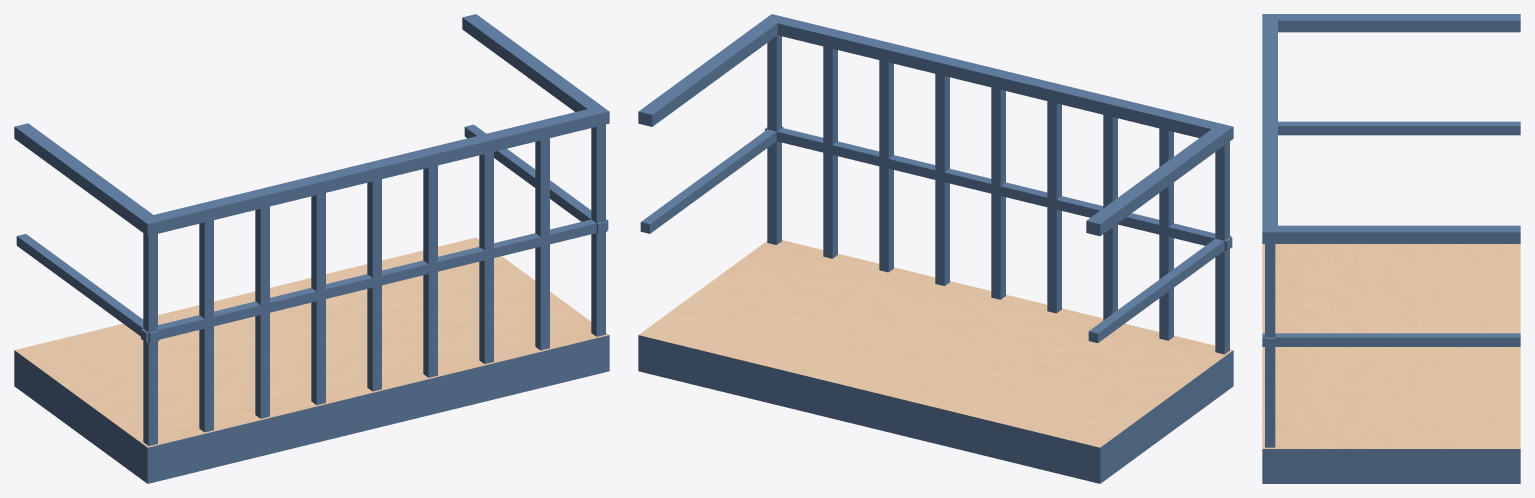
The model's file is Balcony.fbx.
3 renders of one model, left to right at view 1: azimuth 30°, elevation 25°; view 2: azimuth 150°, elevation 25°; view 3: azimuth 270°, elevation 25°, orthographic. The views are drawn at different scales.
Visible parts, largest first — view 1: Balcony; view 2: Balcony; view 3: Balcony.
Boxes of the visible parts, bbox=[...] form: Balcony: bbox=[14, 14, 609, 483]; Balcony: bbox=[638, 14, 1233, 483]; Balcony: bbox=[1262, 14, 1520, 483].
Size of the model in its own units: 2 by 1.07 by 1.
Materials: 1 (1 with a texture image).
